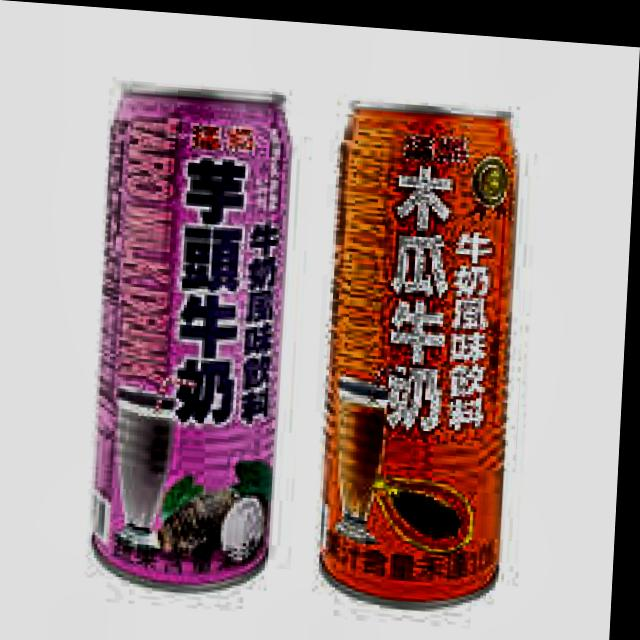can: (71, 58, 307, 611), (315, 87, 534, 619)
